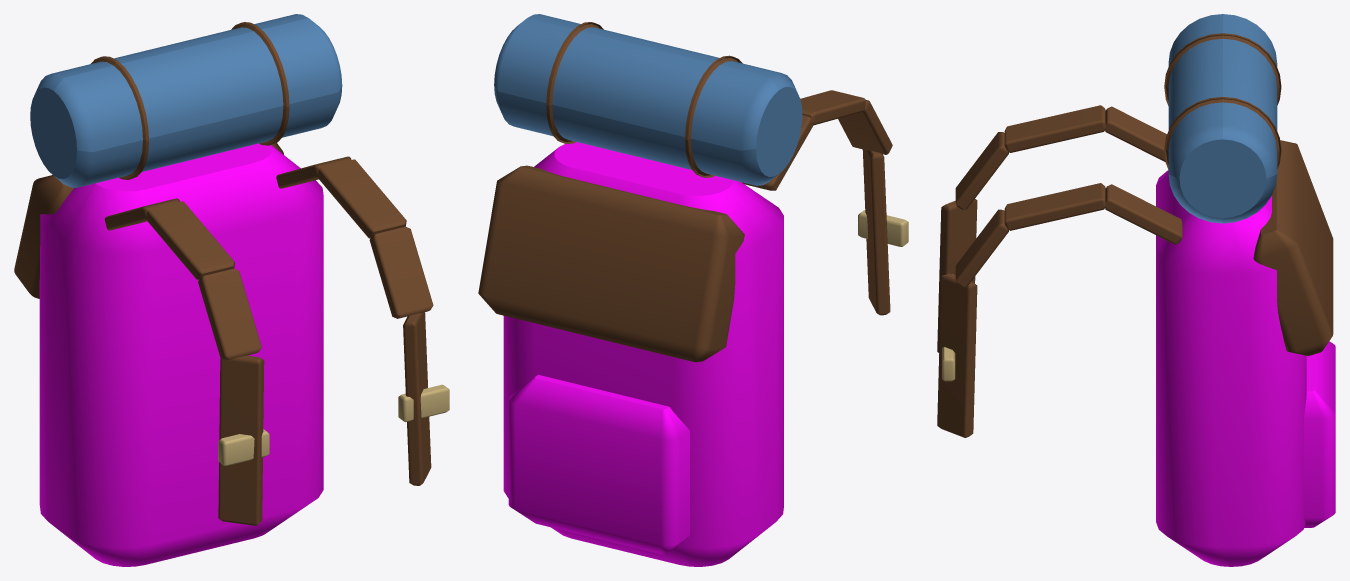
The model's file is porte_sac_a_dos.glb.
3 renders of one model, left to right at view 1: azimuth 30°, elevation 25°; view 2: azimuth 150°, elevation 25°; view 3: azimuth 270°, elevation 25°, orthographic. The views are drawn at different scales.
Parts seen in each view (by area): view 1: poitrine__sac_teinte.002, poitrine__sac_couverture.002, poitrine__sac_sac_cuir.002, poitrine__sac_boucle.002; view 2: poitrine__sac_teinte.002, poitrine__sac_sac_cuir.002, poitrine__sac_couverture.002, poitrine__sac_boucle.002; view 3: poitrine__sac_teinte.002, poitrine__sac_sac_cuir.002, poitrine__sac_couverture.002.
Boxes of the visible parts, x1=… form: poitrine__sac_teinte.002: x1=39, y1=143, x2=323, y2=566; poitrine__sac_couverture.002: x1=30, y1=14, x2=342, y2=187; poitrine__sac_sac_cuir.002: x1=14, y1=22, x2=433, y2=525; poitrine__sac_boucle.002: x1=218, y1=384, x2=449, y2=465; poitrine__sac_teinte.002: x1=503, y1=142, x2=783, y2=566; poitrine__sac_sac_cuir.002: x1=478, y1=22, x2=892, y2=362; poitrine__sac_couverture.002: x1=494, y1=14, x2=802, y2=185; poitrine__sac_boucle.002: x1=858, y1=210, x2=908, y2=246; poitrine__sac_teinte.002: x1=1156, y1=170, x2=1335, y2=566; poitrine__sac_sac_cuir.002: x1=937, y1=33, x2=1333, y2=437; poitrine__sac_couverture.002: x1=1168, y1=14, x2=1277, y2=223.
Size of the model in its own units: 0.34 by 0.61 by 0.4765.
